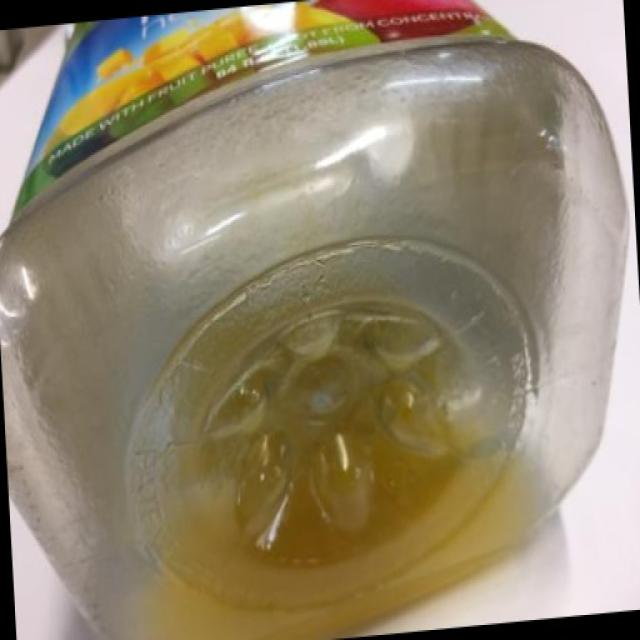plastico: (2, 42, 634, 612)
